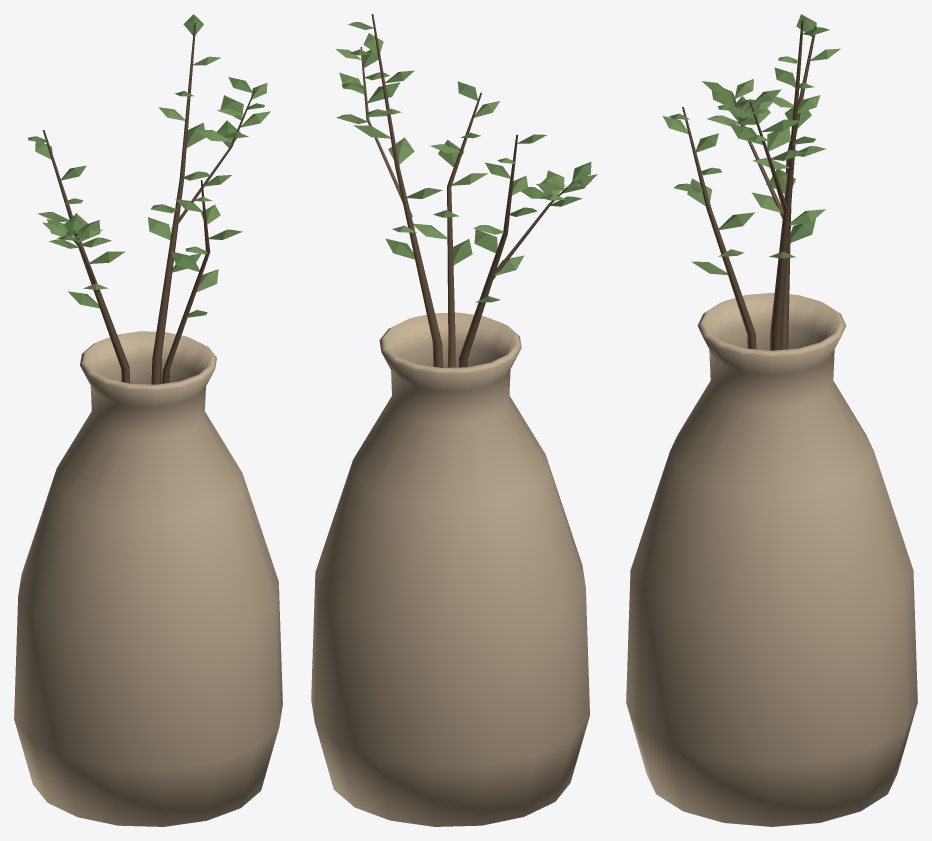
Rendered from original-vase-tall.glb.
3 renders of one model, left to right at view 1: azimuth 30°, elevation 25°; view 2: azimuth 150°, elevation 25°; view 3: azimuth 270°, elevation 25°, orthographic. The views are drawn at different scales.
Visible parts, largest first — view 1: original-vase-tall; view 2: original-vase-tall; view 3: original-vase-tall.
Boxes of the visible parts, box(x1,y1,x2,y2) form: original-vase-tall: box(14, 14, 282, 826); original-vase-tall: box(311, 14, 597, 826); original-vase-tall: box(626, 14, 917, 826).
Bounding box in the file's own units: 0.2 × 0.6 × 0.2.
